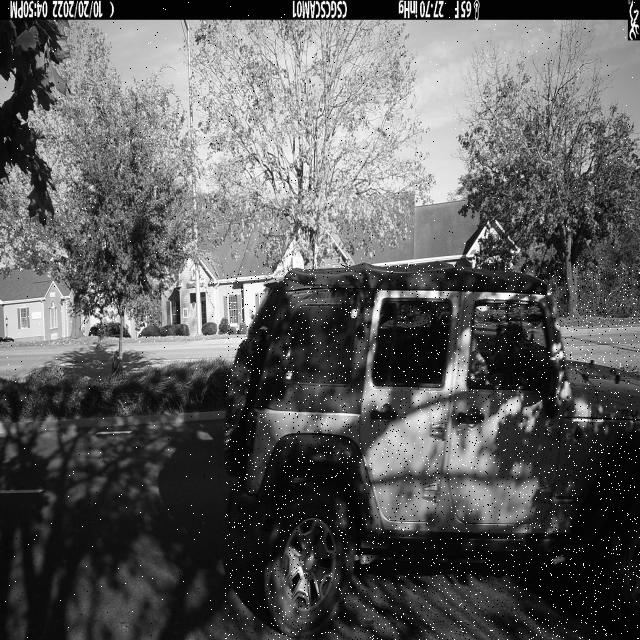SUV: (225, 264, 640, 640)
